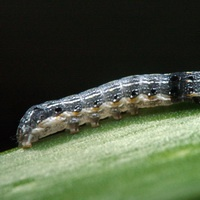insect: (16, 71, 199, 147)
